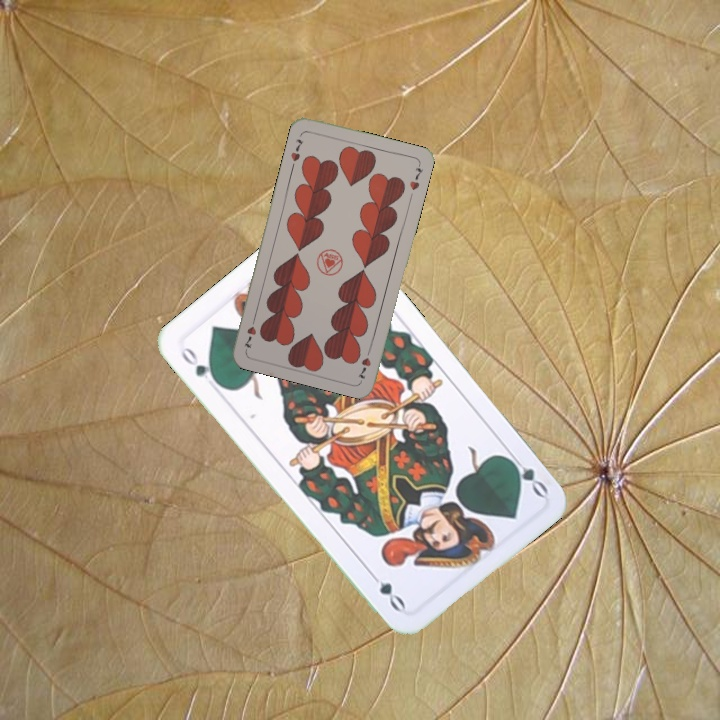GO: (502, 448, 551, 500), (176, 341, 223, 388)
H7: (353, 343, 374, 381), (287, 135, 306, 164)
